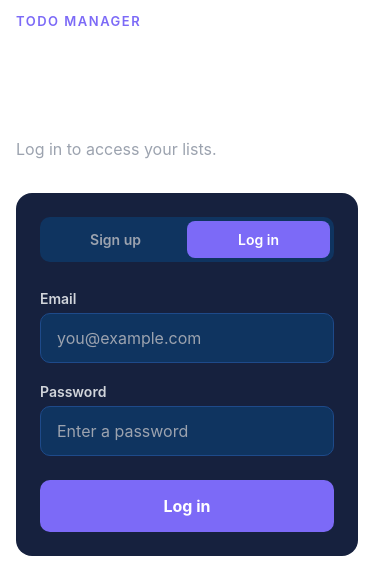
Scenario: AuthScreen › switches to sign up mode
Note: Press the Sign up toggle button (first occurrence)
Click the text "Sign up".
click(115, 239)  # box [90,230,141,248]
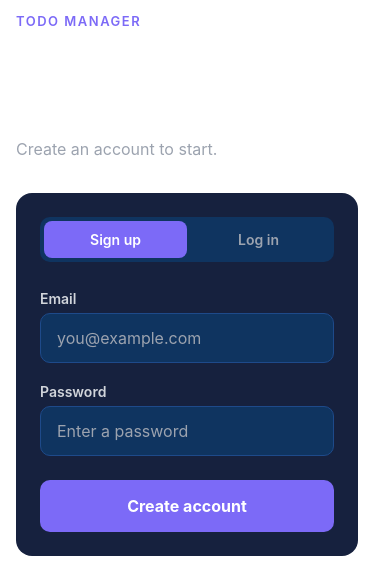
Expected: the text "Create account" is shown, [127,496,247,516]
